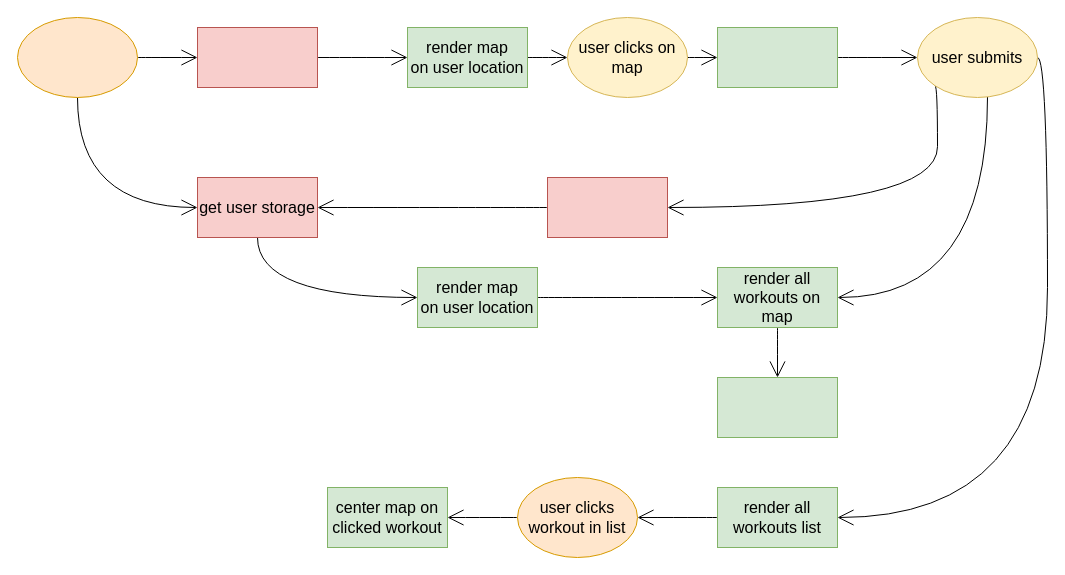
This 1065x575 diagram has some shape labels left out. The centre of each missing label's shape, as x and y in pixels:
calculate and render stats: point 777,407
get user locatin: point 257,57
page loads: point 77,57
render workout form: point 777,57
save new workout: point 607,207
